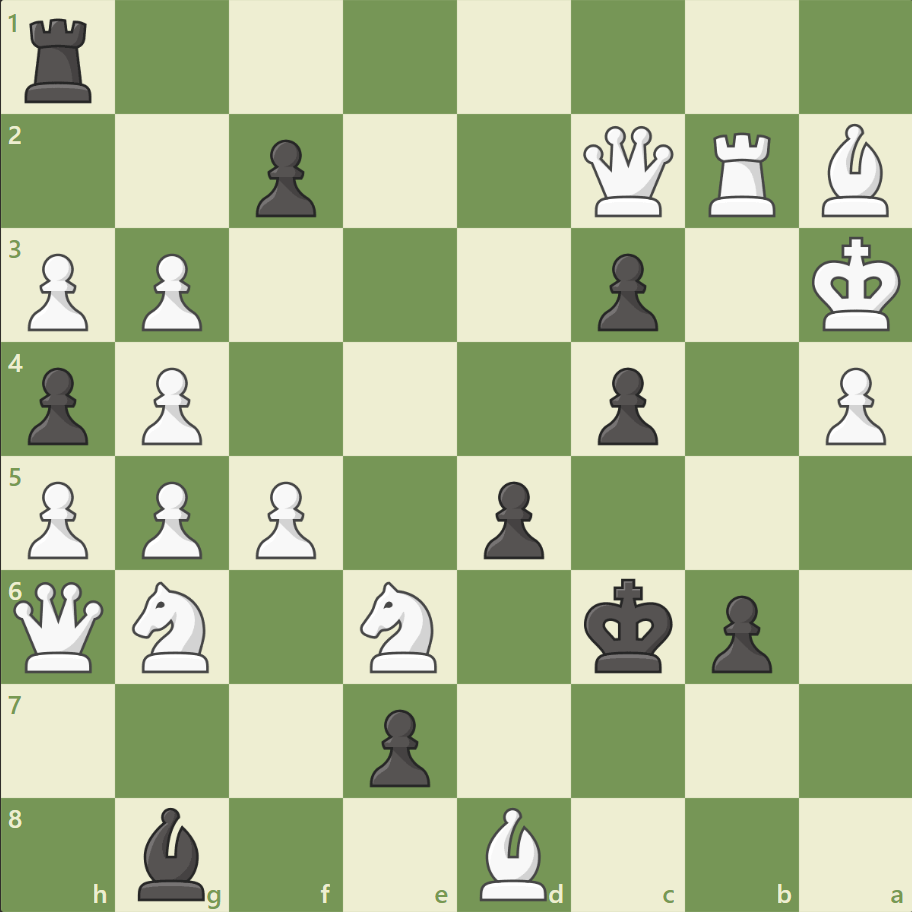B: (471, 801, 555, 904), (812, 120, 896, 222)
K: (806, 231, 906, 339)
N: (351, 575, 449, 677), (124, 575, 222, 677)
P: (247, 473, 322, 564), (133, 473, 208, 564), (20, 473, 95, 564), (133, 359, 208, 450), (133, 246, 208, 337), (20, 246, 95, 337), (815, 359, 889, 450)
Q: (10, 576, 109, 676), (578, 122, 677, 222)
R: (700, 125, 783, 222)
b: (131, 801, 215, 904)
k: (579, 571, 679, 679)
p: (701, 586, 776, 677), (474, 473, 549, 564), (20, 359, 95, 450), (247, 132, 322, 223), (361, 700, 435, 791), (588, 359, 662, 450), (588, 246, 662, 337)
r: (19, 12, 102, 109)
